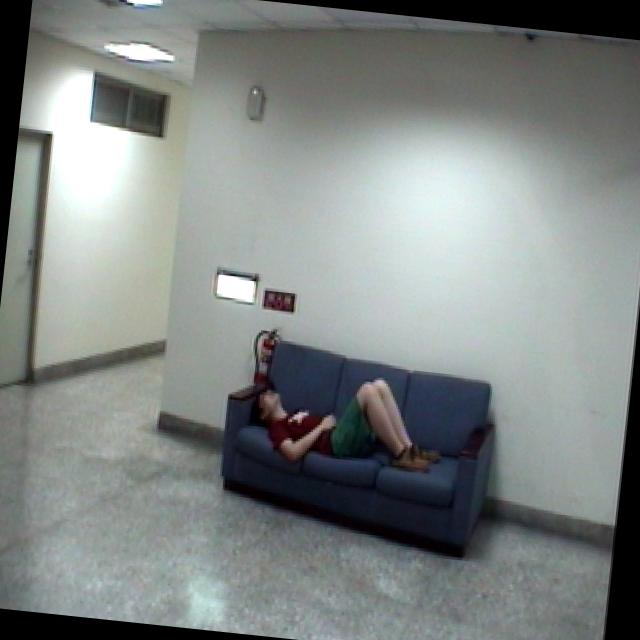lie: (246, 360, 456, 491)
